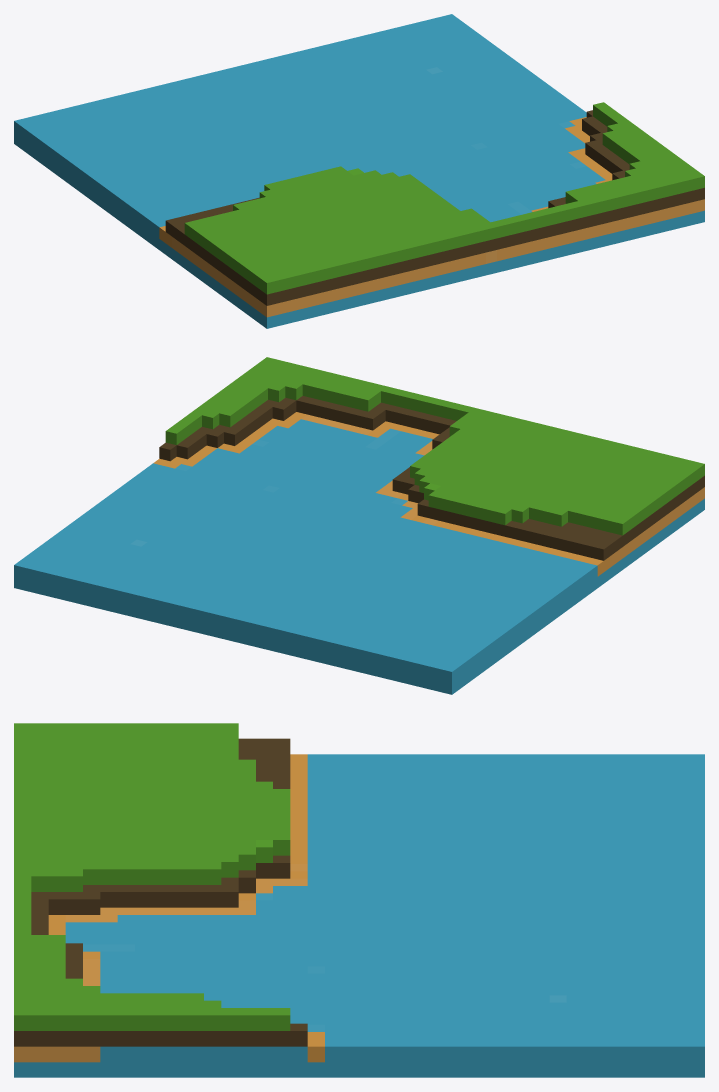
Rendered from river3-4-River.obj.
The picture shows the model from 3 angles, top to bottom: view 1: azimuth 30°, elevation 25°; view 2: azimuth 150°, elevation 25°; view 3: azimuth 270°, elevation 25°; orthographic projection. The views are drawn at different scales.
Visible parts, largest first — view 1: River; view 2: River; view 3: River.
Boxes of the visible parts, x1,y1,x2,y2 form: River: [14, 14, 704, 328]; River: [14, 357, 704, 694]; River: [14, 723, 704, 1077].
Size of the model in its own units: 4 by 0.4 by 4.
